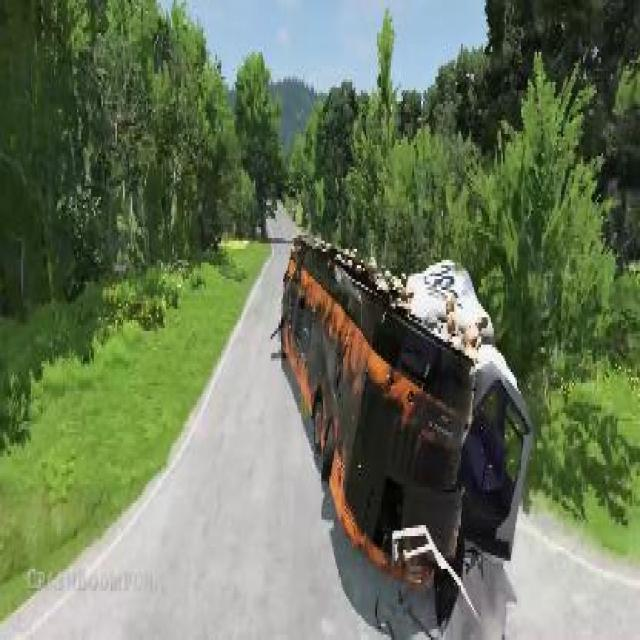accident: (271, 214, 535, 586)
